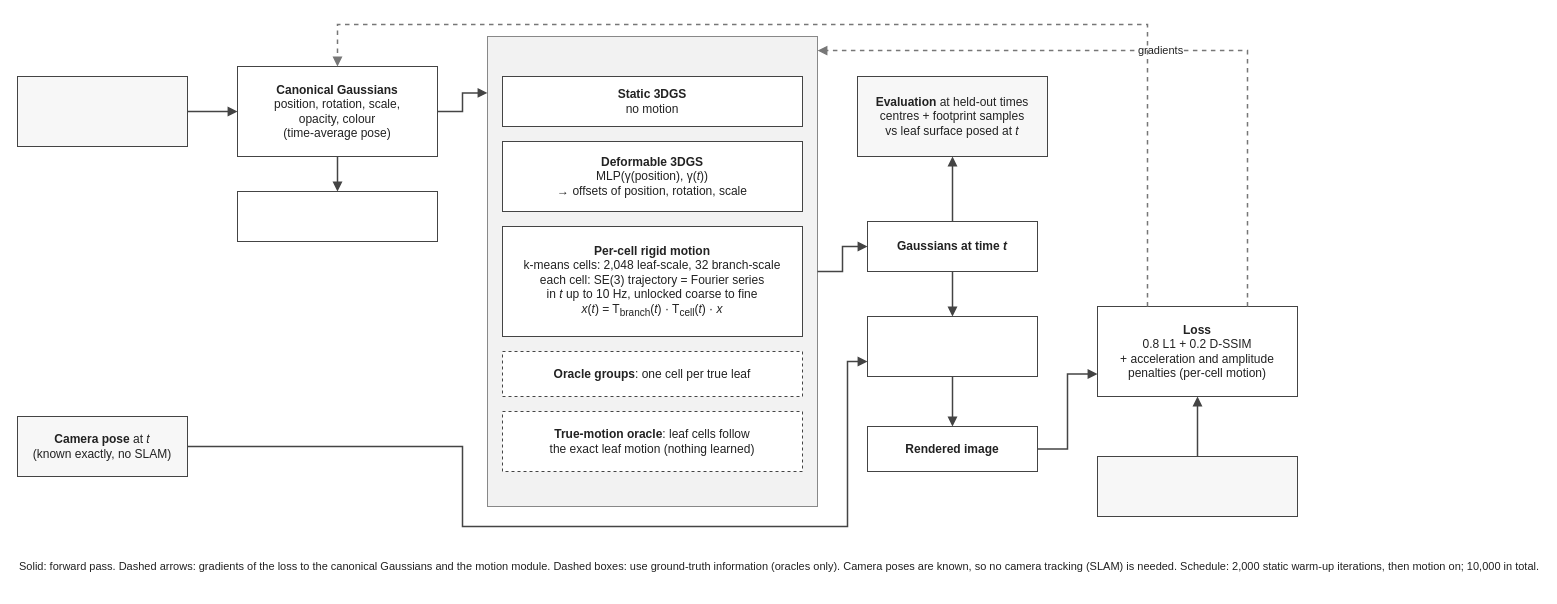
This 1557x604 diagram has some shape labels left out. The shapes that lost their labels are listed below. From the top down, each one's box as (x1, y1, x2, y2) in pixels, then its label:
(16, 76, 188, 146): Depth image back-projected points (initialisation)
(236, 190, 438, 242): Densify / prune (gsplat default strategy)
(486, 36, 818, 506): Motion module (differs per method)
(866, 316, 1038, 376): Differentiable rasteriser (gsplat)
(1096, 456, 1298, 516): Training view RGB image at time t
